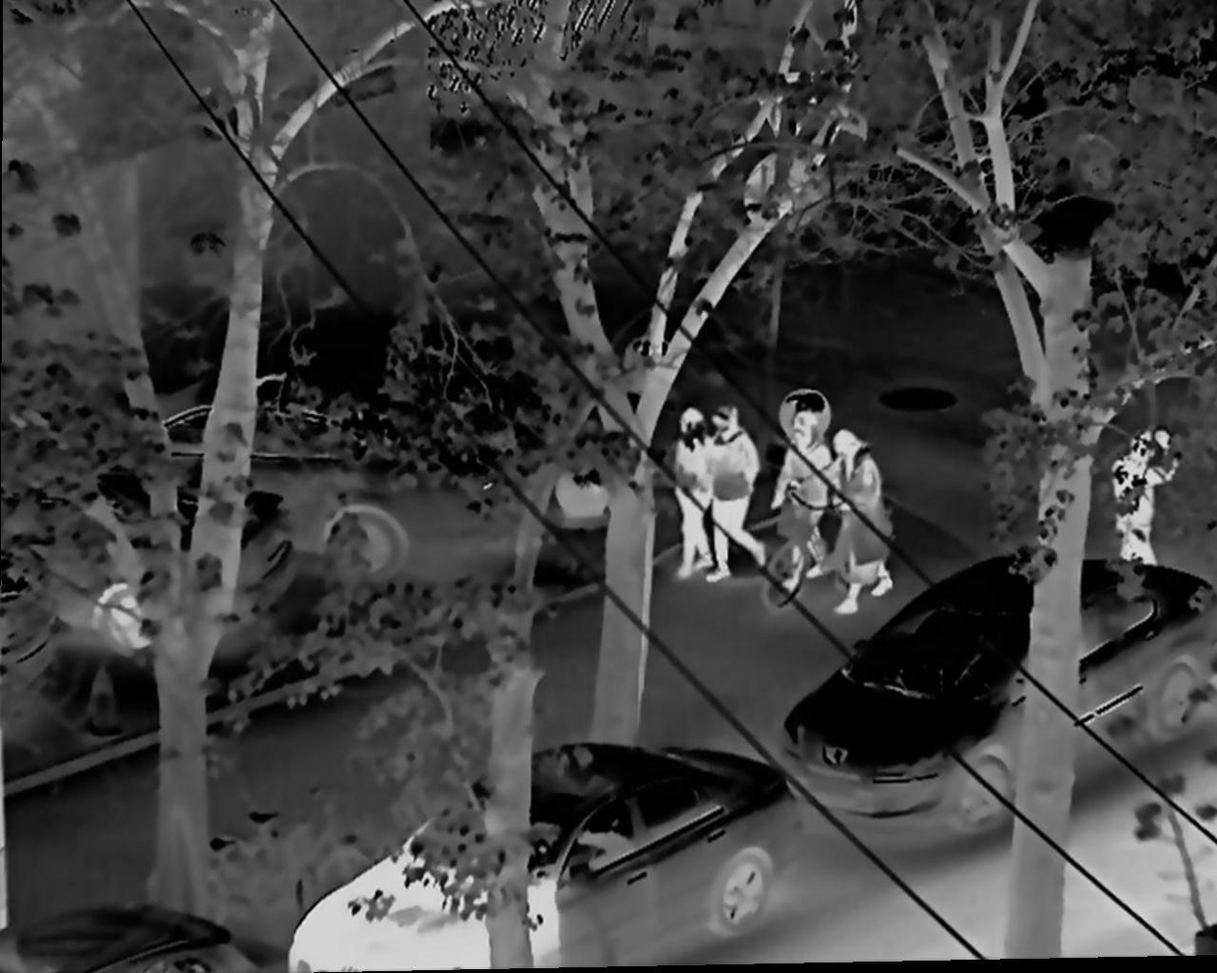person: (825, 429, 899, 621), (707, 406, 769, 585), (770, 409, 831, 584), (1116, 429, 1170, 572), (675, 408, 714, 582)
